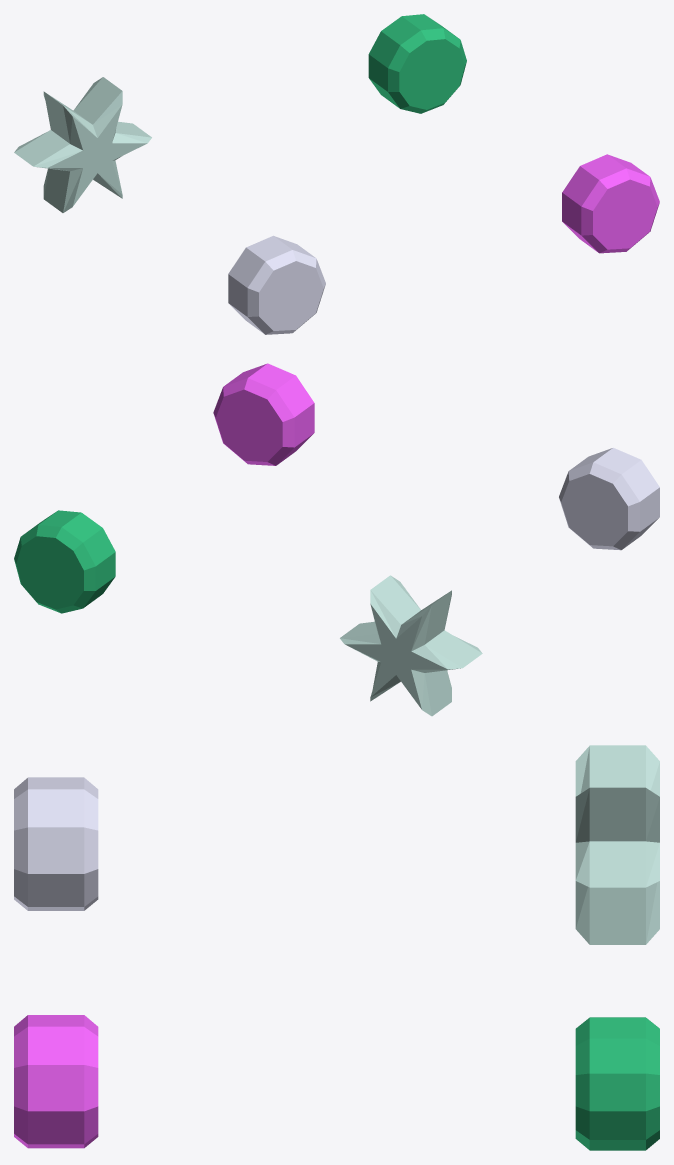
The model's file is LineMats_3_LinearExtrusionTest_2023-06-04-21-23-00.gltf.
3 views of the same model, one above another, from view 1: azimuth 30°, elevation 25°; view 2: azimuth 150°, elevation 25°; view 3: azimuth 270°, elevation 25° (orthographic). The views are drawn at different scales.
Bounding box in the file's own units: 260 × 61.8 × 230.
